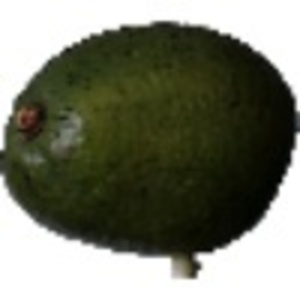abacate: (1, 20, 297, 256)
